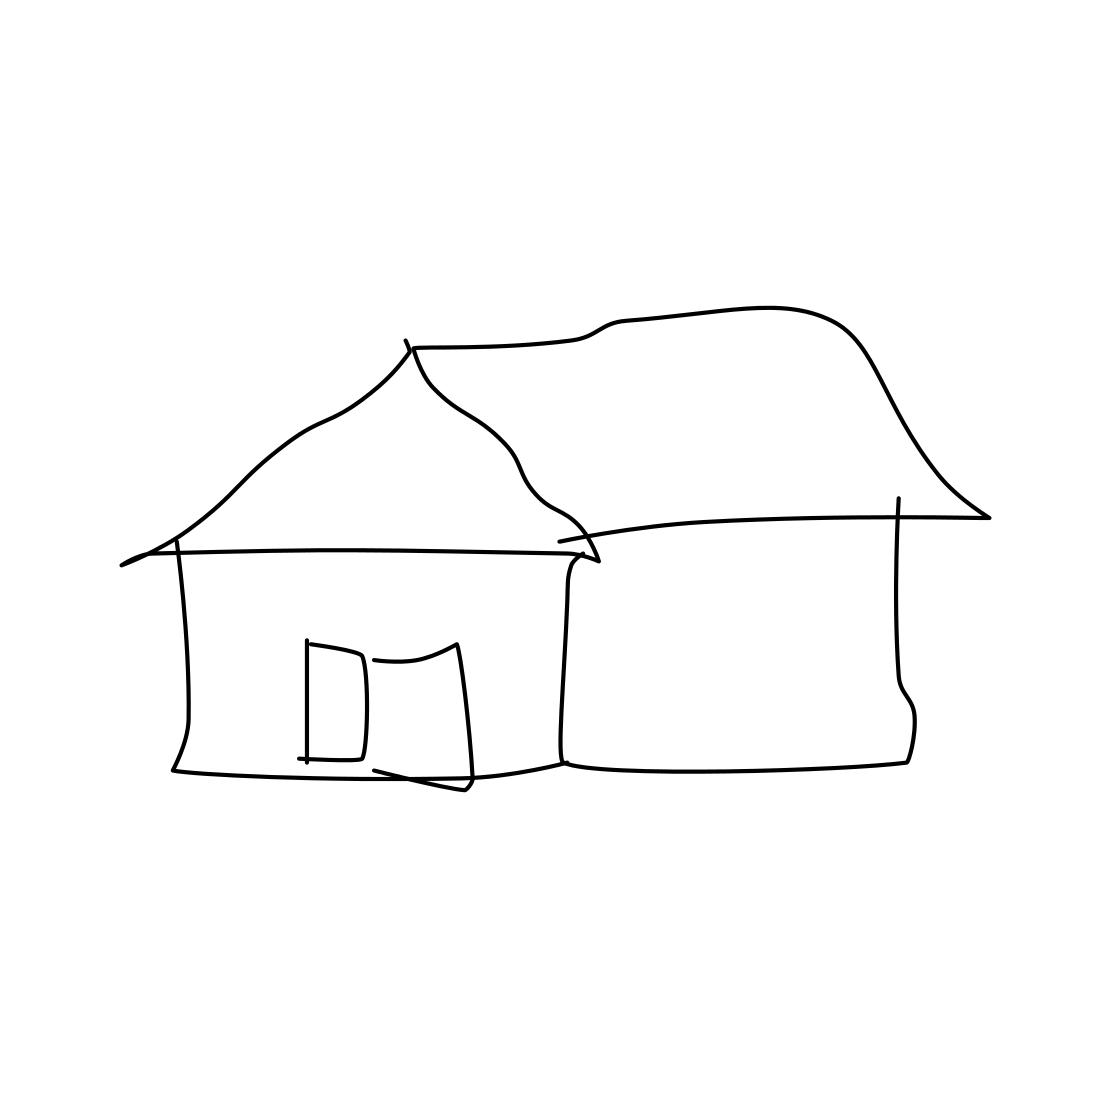House: (103, 278, 1001, 836)
